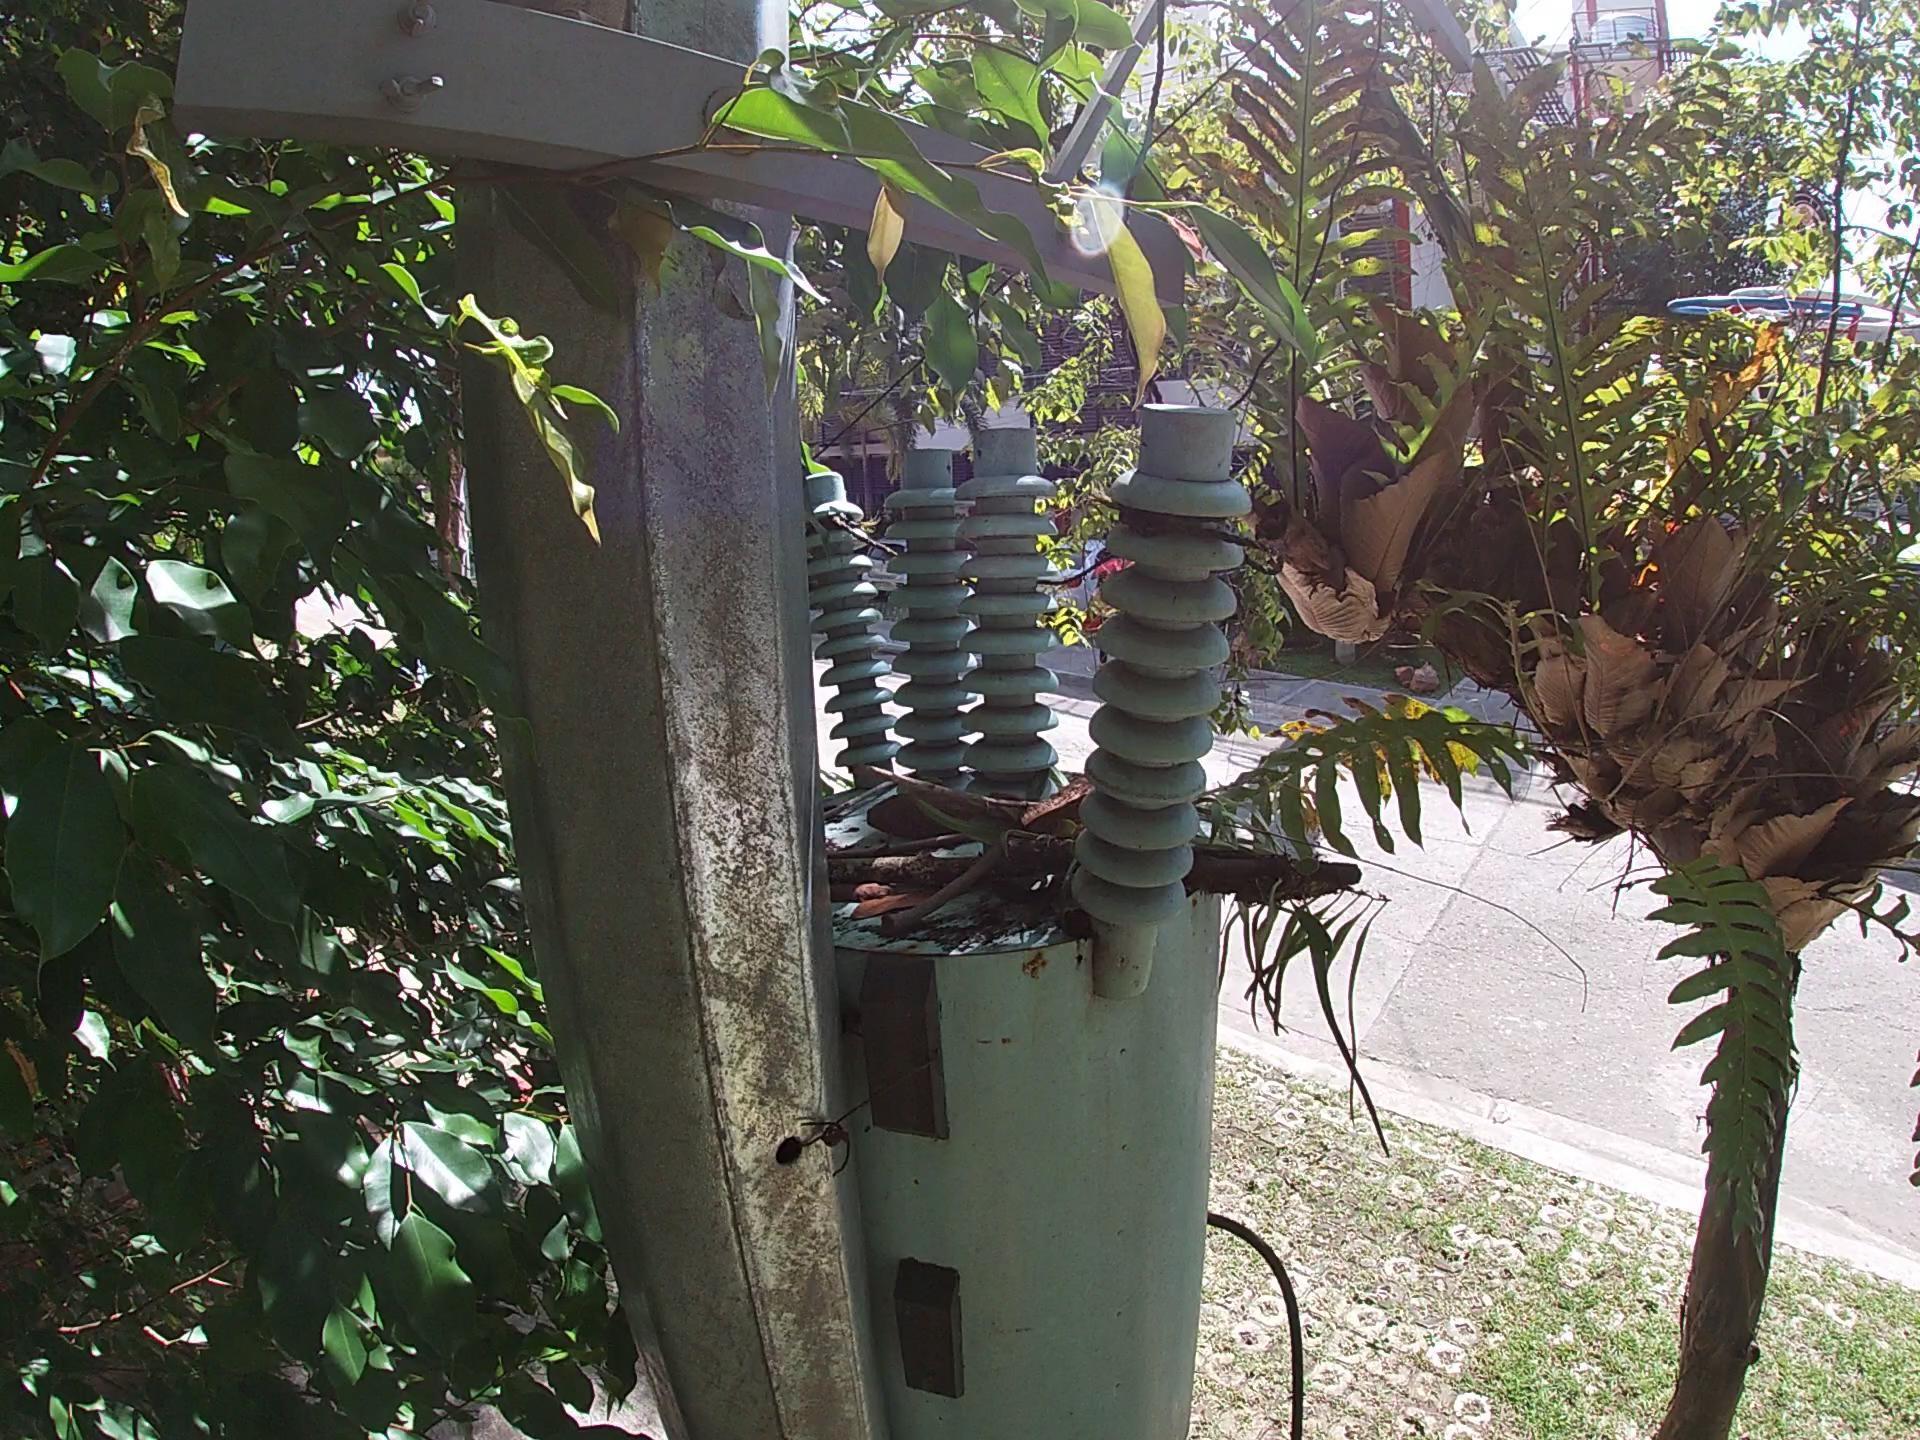branch with leaves: (822, 858, 1317, 944)
leaf: (841, 871, 943, 957)
mahogany fruit: (839, 726, 965, 805)
tree branch: (872, 765, 1577, 964), (884, 852, 1002, 948), (830, 726, 887, 846), (822, 843, 958, 874)
